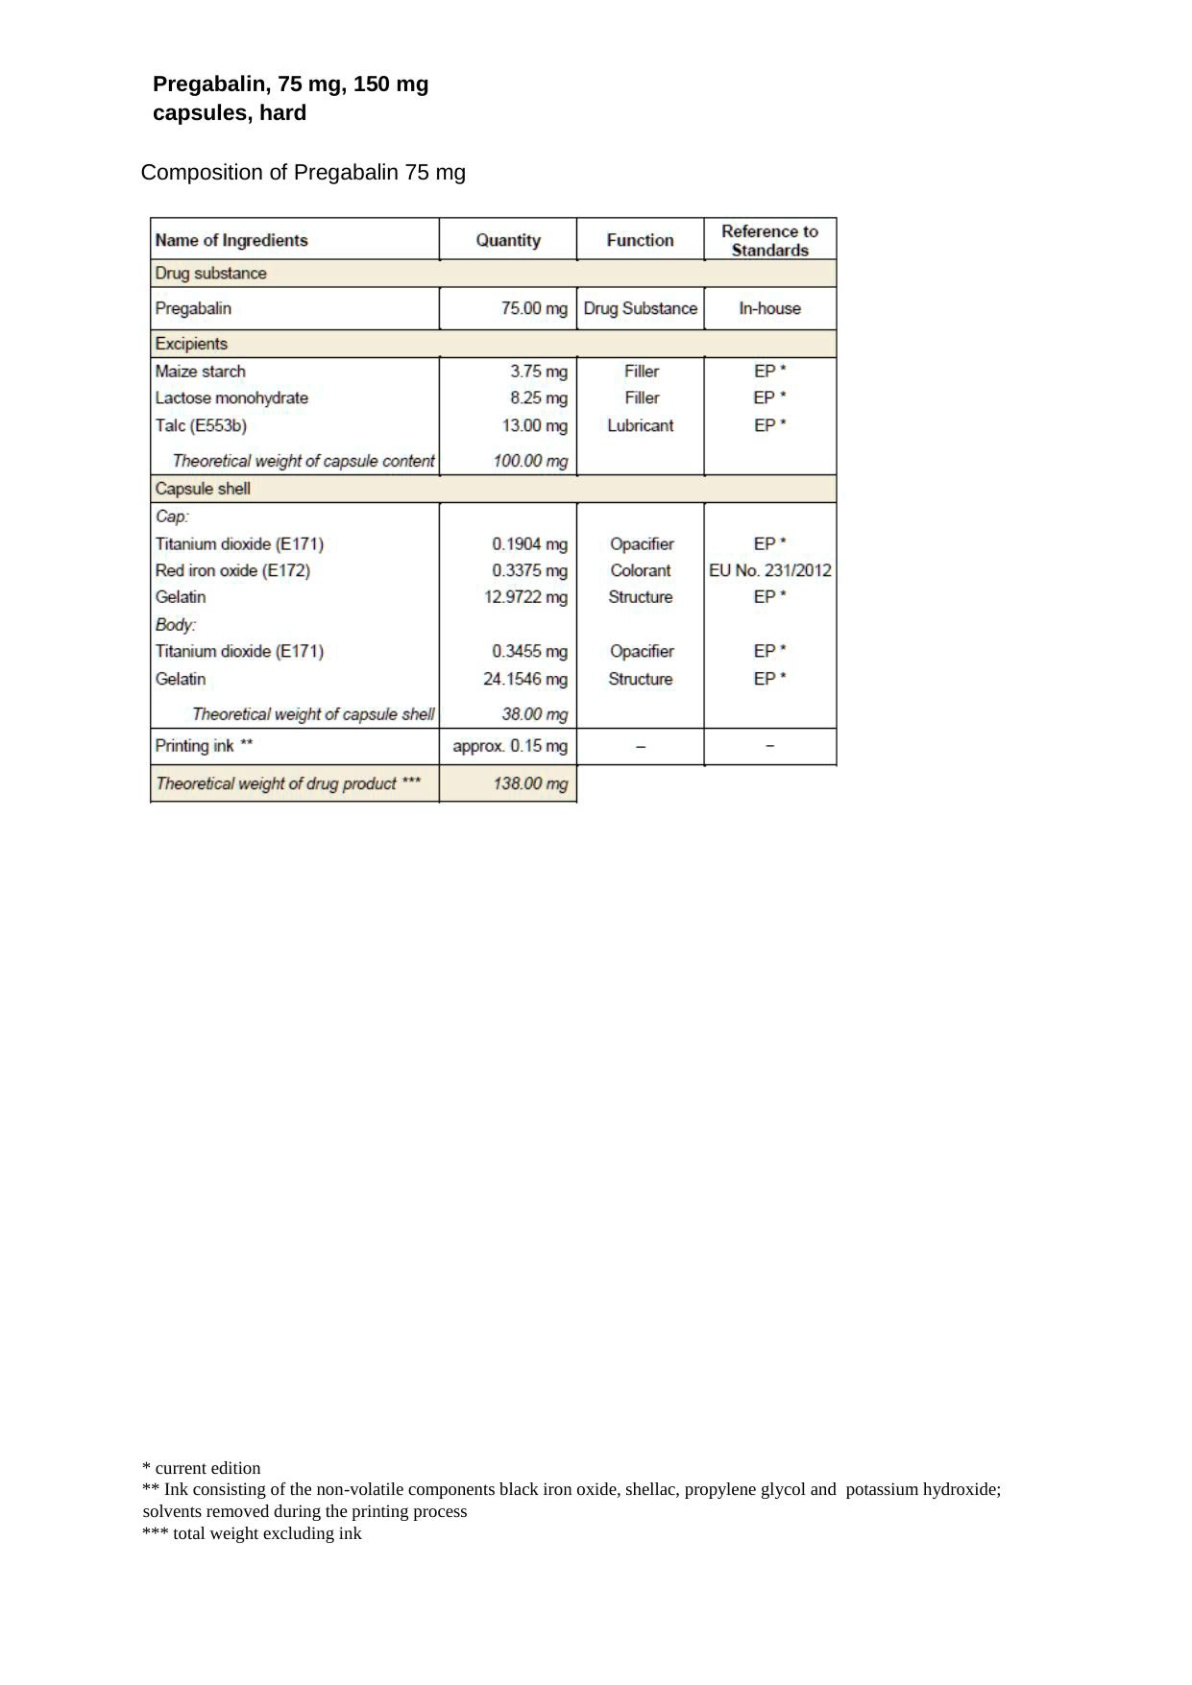merged_cells: (148, 215, 839, 804)
